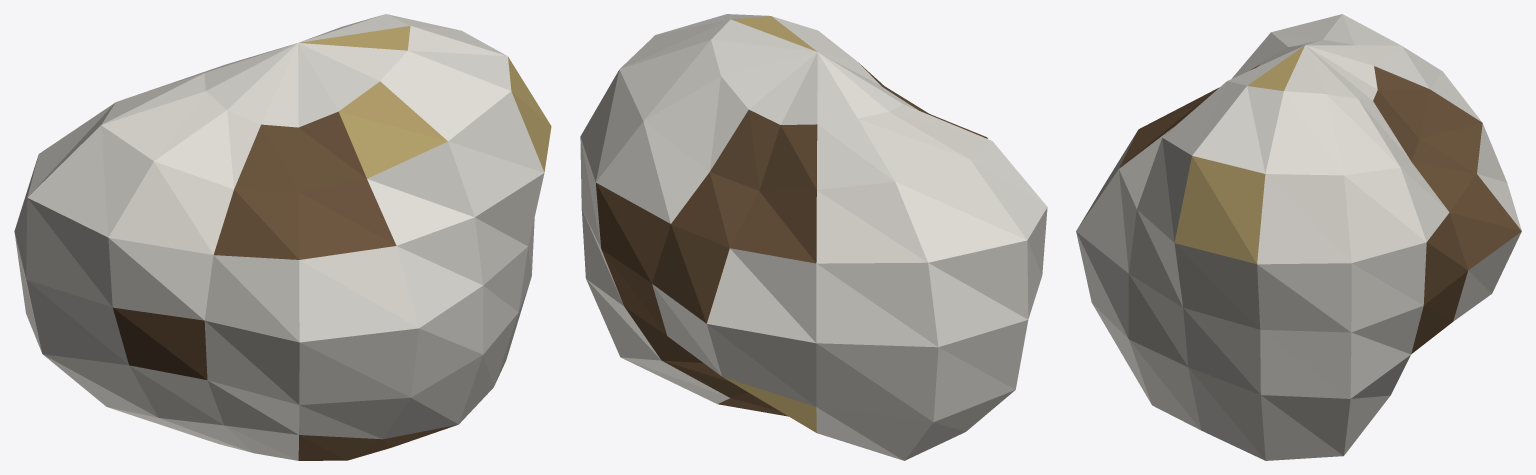
Rendered from wool_tuft.glb.
3 views of the same model, side by side, from view 1: azimuth 30°, elevation 25°; view 2: azimuth 150°, elevation 25°; view 3: azimuth 270°, elevation 25° (orthographic). The views are drawn at different scales.
Parts seen in each view (by area): view 1: wool_tuft; view 2: wool_tuft; view 3: wool_tuft.
Part boxes in pixels (box(x1,y1,x2,y2)): wool_tuft: box(14, 14, 551, 460); wool_tuft: box(580, 14, 1047, 460); wool_tuft: box(1076, 14, 1521, 460).
Size of the model in its own units: 0.11 by 0.085 by 0.095.
